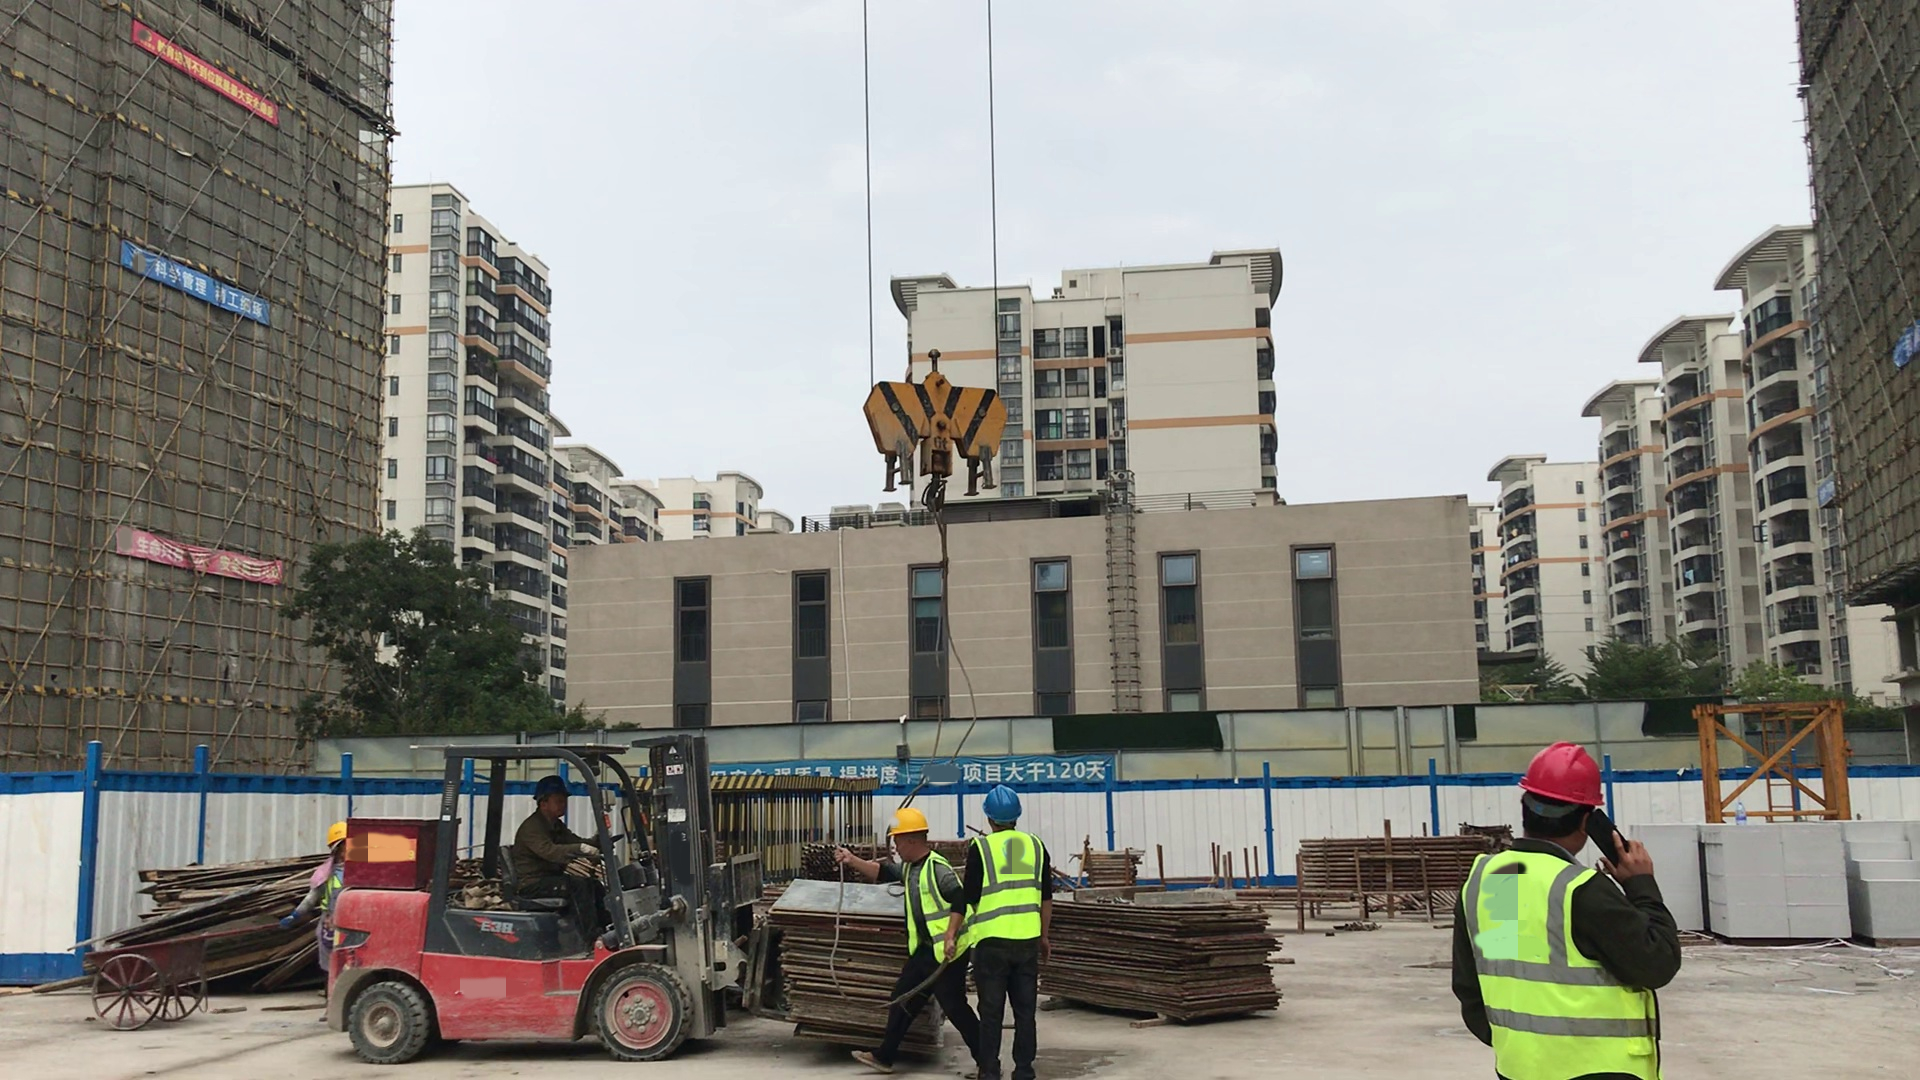board: (1050, 886, 1294, 1027), (771, 860, 915, 1041)
brick: (1713, 802, 1853, 952), (1849, 818, 1920, 949), (1637, 820, 1705, 928)
handcart: (23, 927, 227, 1038)
helmet: (1512, 738, 1609, 809), (979, 788, 1026, 823), (882, 809, 933, 837), (527, 777, 573, 797)
hook: (864, 353, 1005, 485)
person: (1426, 738, 1715, 1080), (948, 776, 1088, 1080), (830, 797, 972, 1080), (497, 776, 629, 950)
scaffold: (1285, 837, 1464, 896)
slogan: (715, 742, 1126, 790), (137, 26, 282, 123), (119, 244, 272, 326), (122, 522, 289, 587)
vest: (1450, 851, 1665, 1079), (887, 852, 971, 965), (965, 837, 1046, 949)
